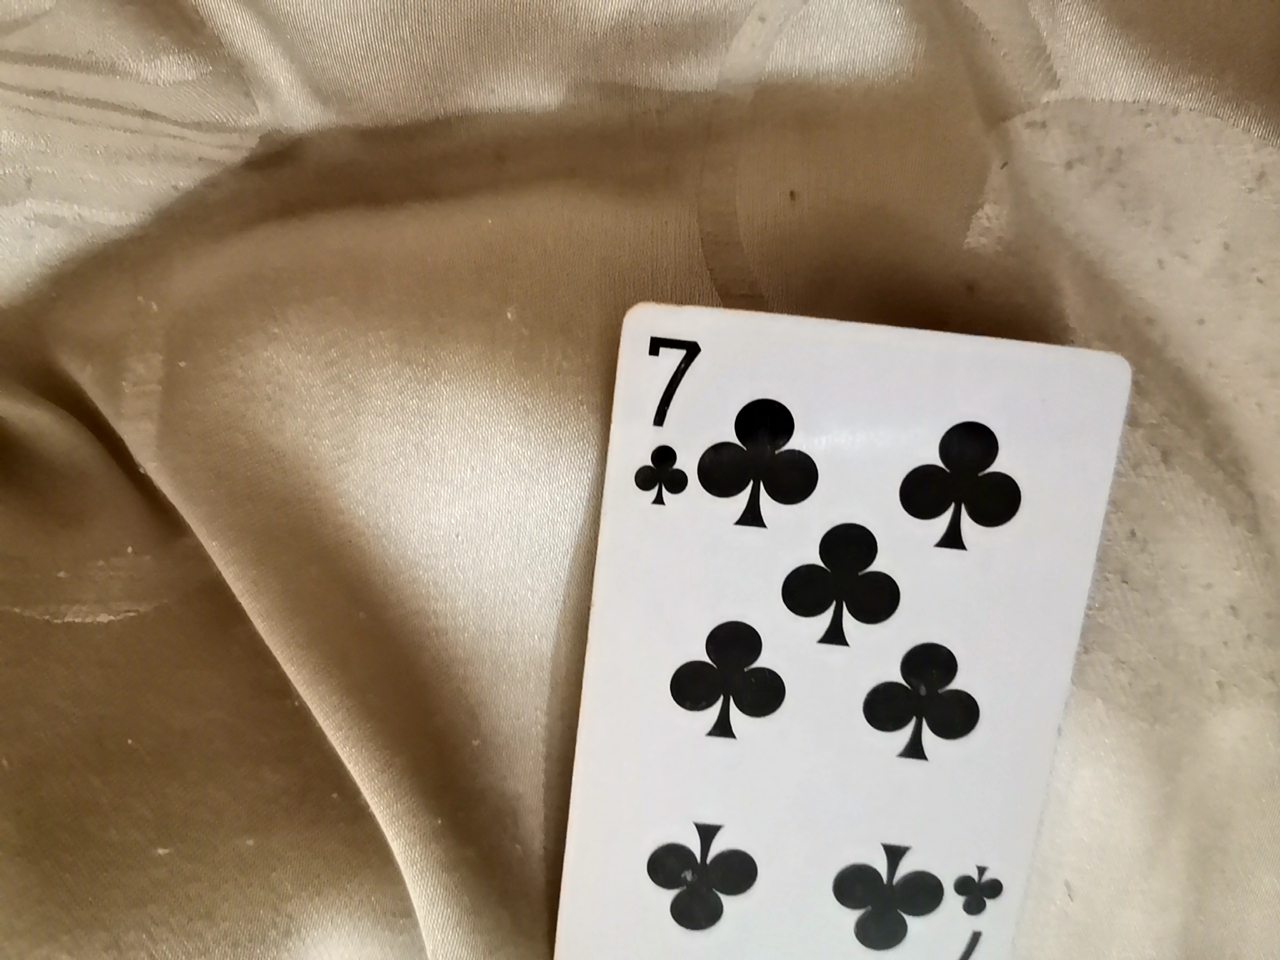mh 7: (552, 314, 1118, 956)
